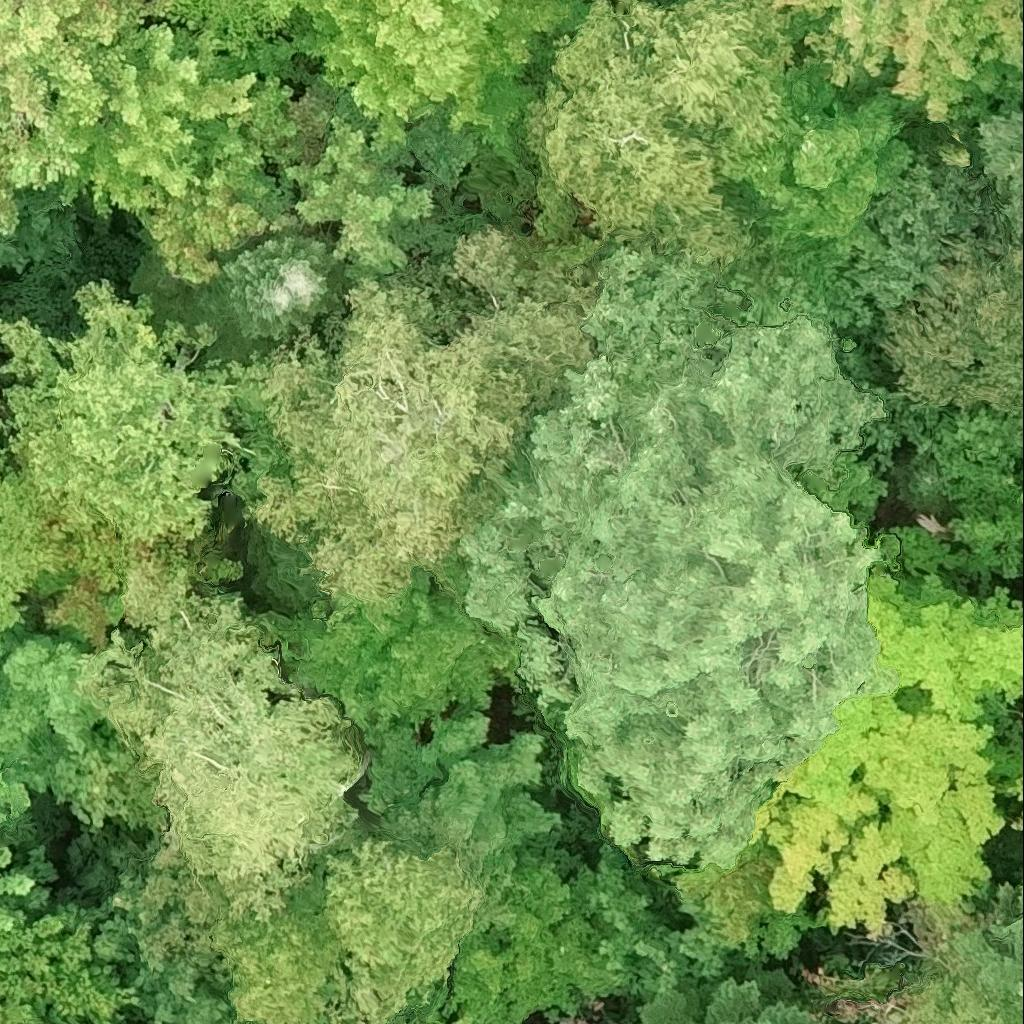crown: (458, 251, 901, 869), (219, 225, 607, 607), (85, 556, 363, 920), (747, 576, 1023, 937), (0, 277, 242, 544), (194, 818, 507, 1023), (130, 29, 348, 287), (266, 0, 587, 165), (245, 560, 525, 746), (0, 0, 191, 244), (61, 25, 257, 218), (0, 627, 174, 829), (73, 822, 234, 1023), (780, 0, 1023, 120), (36, 518, 244, 651), (285, 111, 433, 279), (0, 846, 138, 1023), (660, 845, 814, 956), (225, 236, 339, 339), (147, 0, 315, 61), (0, 472, 54, 644), (903, 955, 1023, 1023), (643, 978, 818, 1023), (952, 909, 1023, 1007), (248, 523, 326, 611), (982, 114, 1023, 239), (0, 909, 31, 1023), (0, 765, 32, 831), (0, 1010, 18, 1023), (0, 845, 10, 867), (1014, 52, 1023, 70), (456, 1018, 476, 1023), (61, 909, 67, 912), (67, 908, 73, 909)
